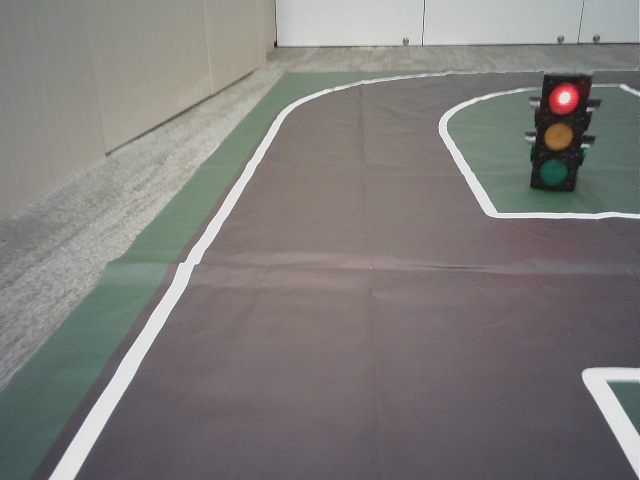red: (540, 80, 577, 186)
